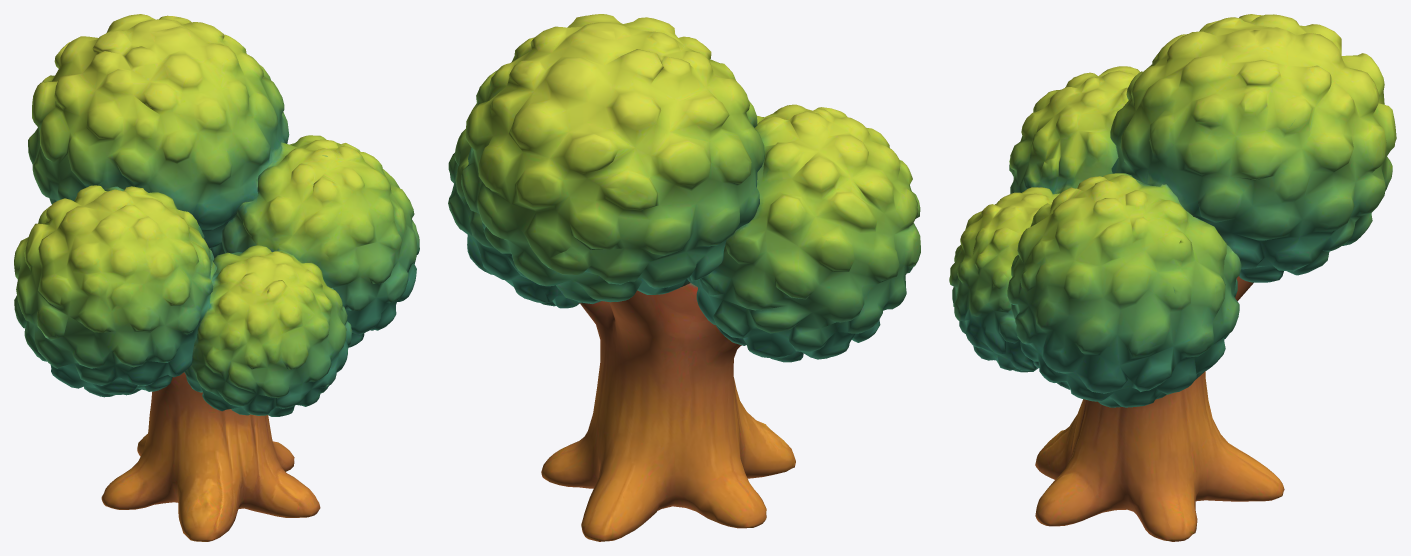
The model's file is Stylized Green Bushy Tree.glb.
The picture shows the model from 3 angles, left to right: view 1: azimuth 30°, elevation 25°; view 2: azimuth 150°, elevation 25°; view 3: azimuth 270°, elevation 25°; orthographic projection. The views are drawn at different scales.
Parts seen in each view (by area): view 1: pb_node; view 2: pb_node; view 3: pb_node.
Boxes of the visible parts, x1,y1,x2,y2 form: pb_node: (14, 14, 419, 541); pb_node: (448, 14, 920, 541); pb_node: (949, 14, 1396, 541).
Bounding box in the file's own units: 0.9199 × 0.998 × 0.873.
1 material, 1 textured.
